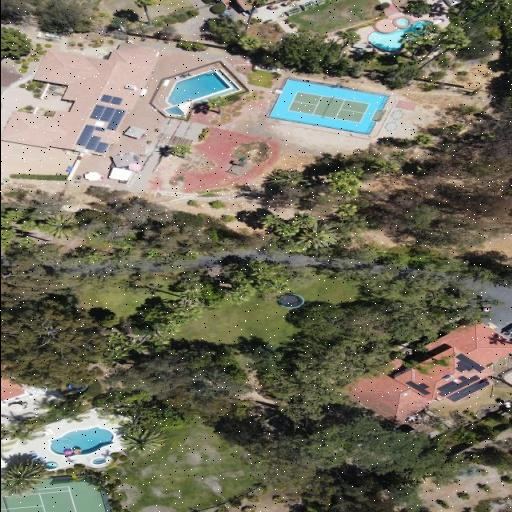solar-panel: (445, 379, 489, 402), (75, 124, 108, 154), (435, 375, 480, 397), (88, 105, 125, 131), (454, 353, 485, 372), (404, 381, 430, 395), (99, 94, 122, 105)
